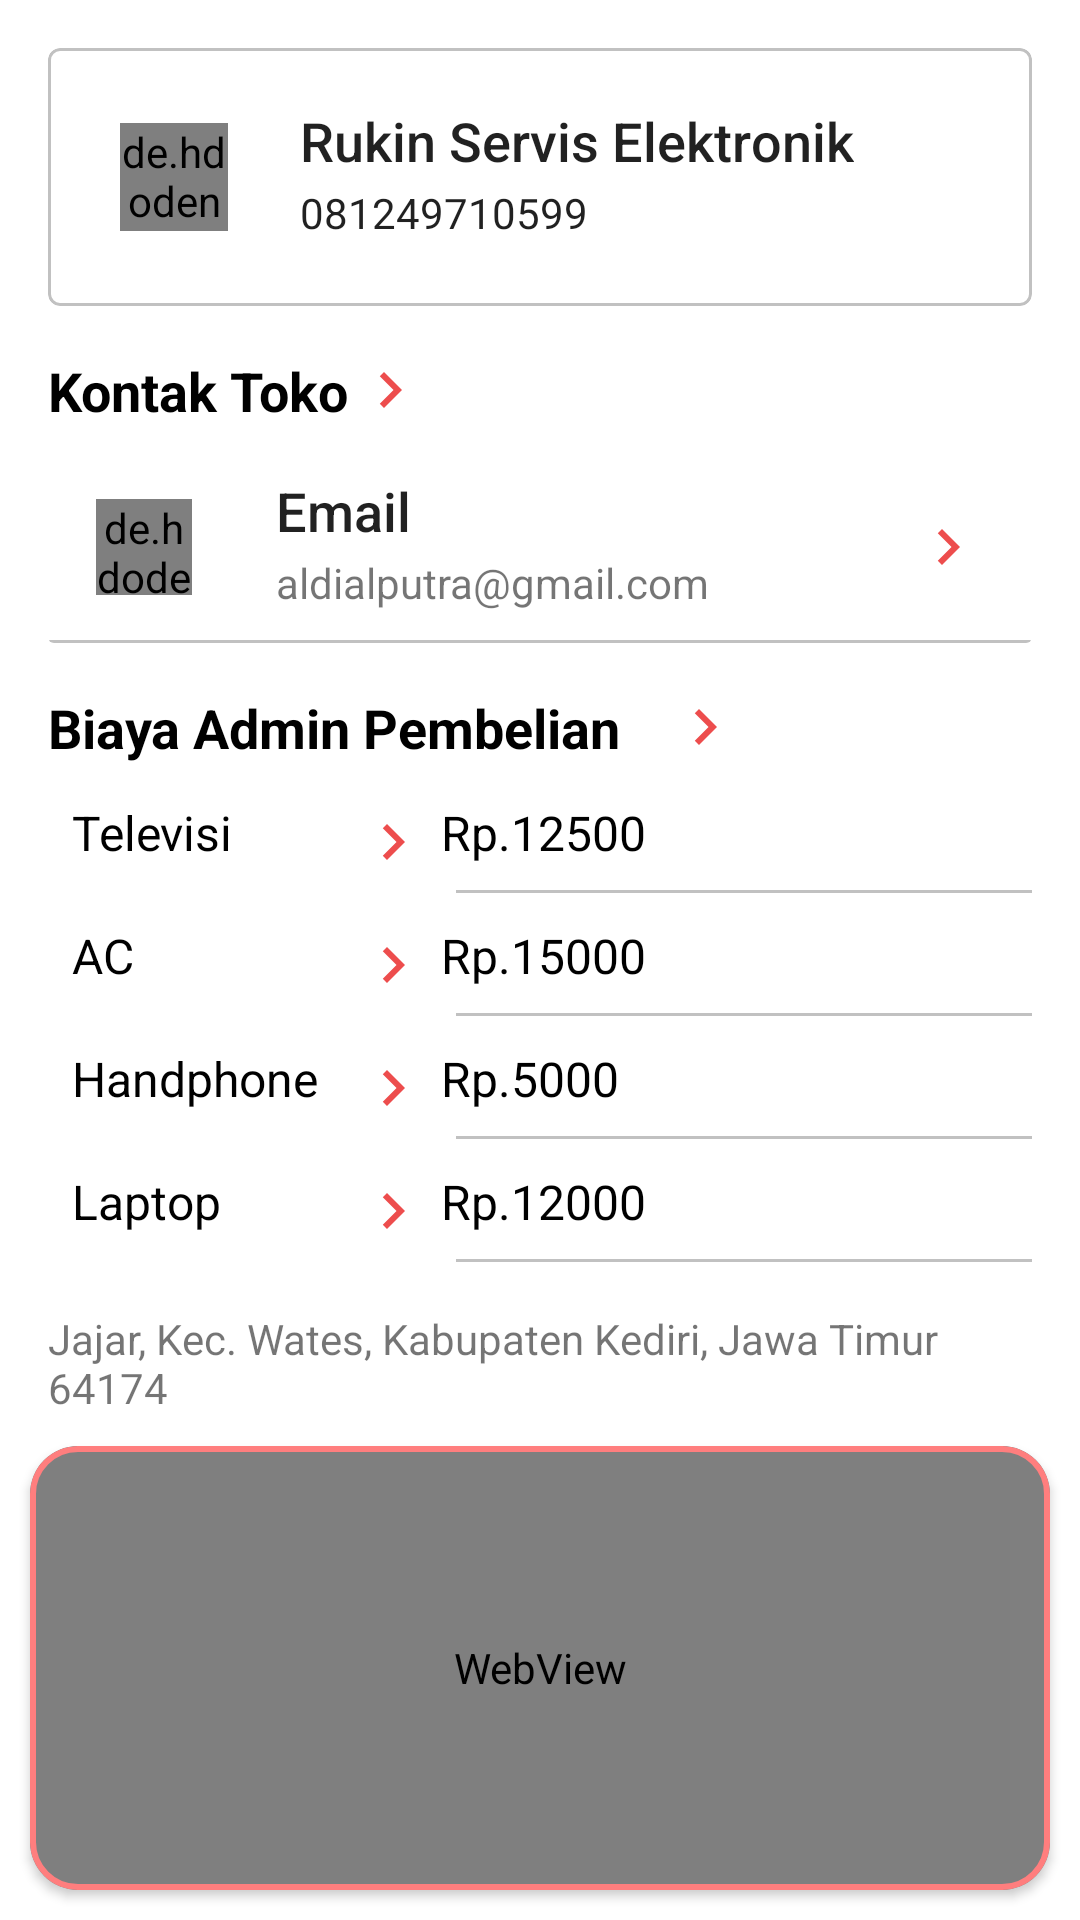

Where to tap for icons on this 1080x1920 app screen, as (x=x, y=y):
next: (x=949, y=547), (x=394, y=842), (x=394, y=965), (x=394, y=1088), (x=394, y=1211)
